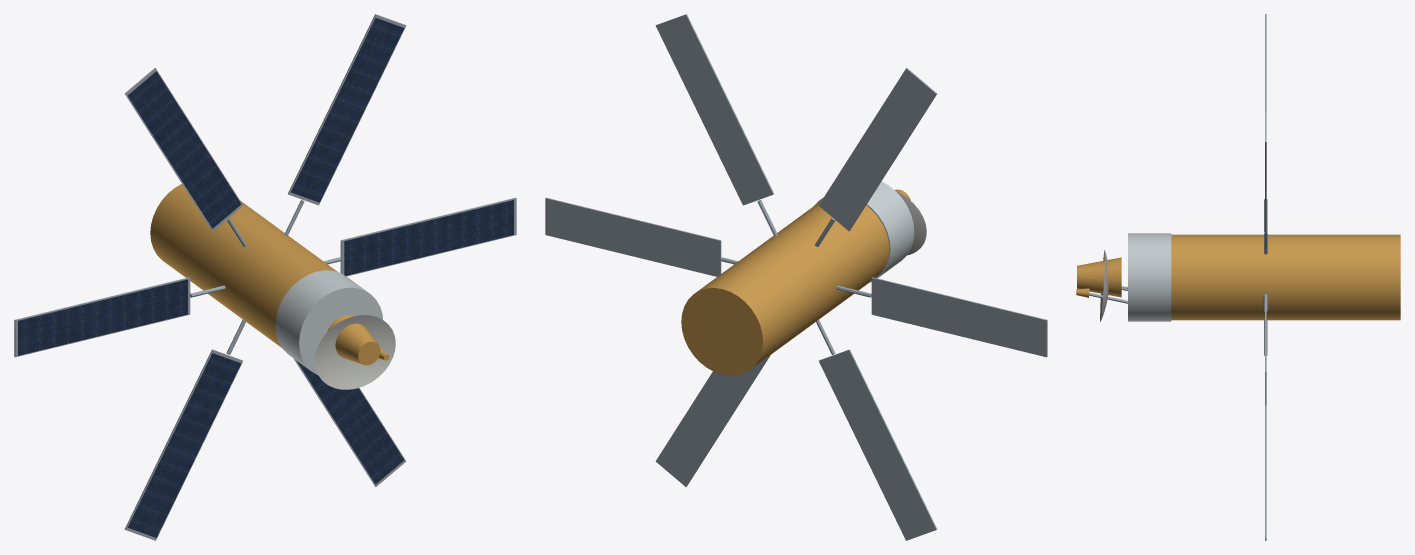
Rendered from ref-molniya-1-1621.glb.
The picture shows the model from 3 angles, left to right: view 1: azimuth 30°, elevation 25°; view 2: azimuth 150°, elevation 25°; view 3: azimuth 270°, elevation 25°; orthographic projection. The views are drawn at different scales.
Parts seen in each view (by area): view 1: Solar cell panel (×6), Service barrel, Equipment flange, Radial paddle frame (×5), Deck-mounted reflector, Axial antenna horn; view 2: Radial paddle frame (×6), Service barrel, Equipment flange, Deck-mounted reflector; view 3: Service barrel, Equipment flange, Axial antenna horn.
Part boxes in pixels (x1=…): Solar cell panel (×6): x1=18, y1=18, x2=513, y2=537; Service barrel: x1=150, y1=184, x2=337, y2=347; Equipment flange: x1=275, y1=270, x2=382, y2=374; Radial paddle frame (×5): x1=14, y1=14, x2=516, y2=540; Deck-mounted reflector: x1=314, y1=315, x2=395, y2=389; Axial antenna horn: x1=327, y1=315, x2=380, y2=365; Radial paddle frame (×6): x1=545, y1=14, x2=1047, y2=540; Service barrel: x1=681, y1=201, x2=889, y2=375; Equipment flange: x1=813, y1=181, x2=914, y2=282; Deck-mounted reflector: x1=896, y1=191, x2=926, y2=255; Service barrel: x1=1171, y1=234, x2=1400, y2=320; Equipment flange: x1=1128, y1=233, x2=1171, y2=321; Axial antenna horn: x1=1077, y1=257, x2=1121, y2=297.
Bounding box in the file's own units: 8.57 × 7.72 × 5.29.
Materials: 5 (1 with a texture image).
